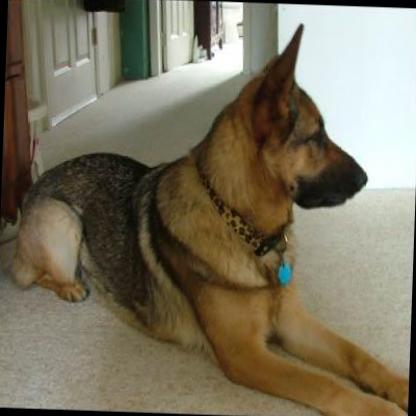German_shepherd: (5, 12, 416, 416)
